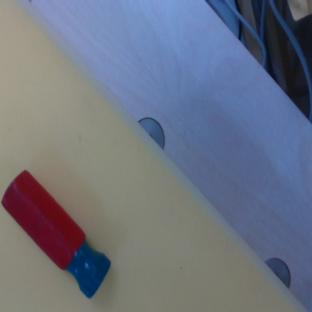part_2_good: (0, 169, 120, 299)
